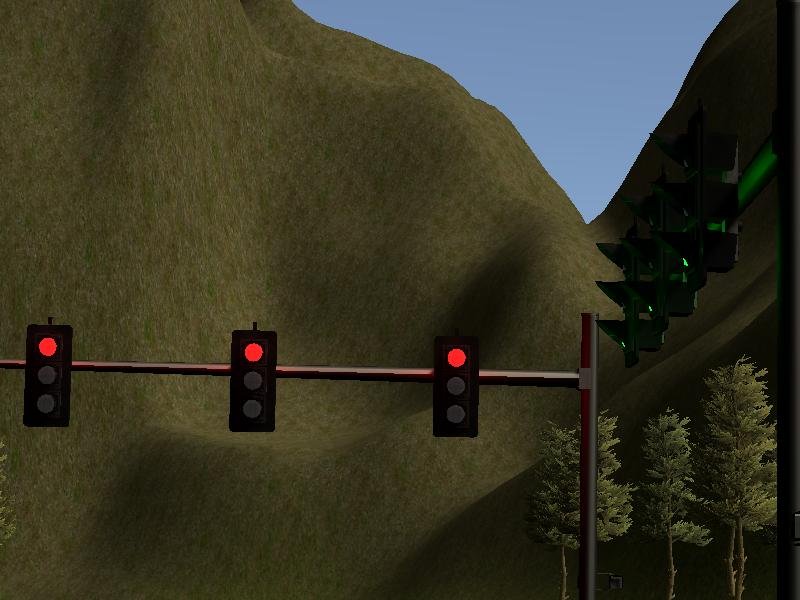Red: (230, 329, 275, 431), (433, 338, 478, 438), (27, 323, 70, 426)
